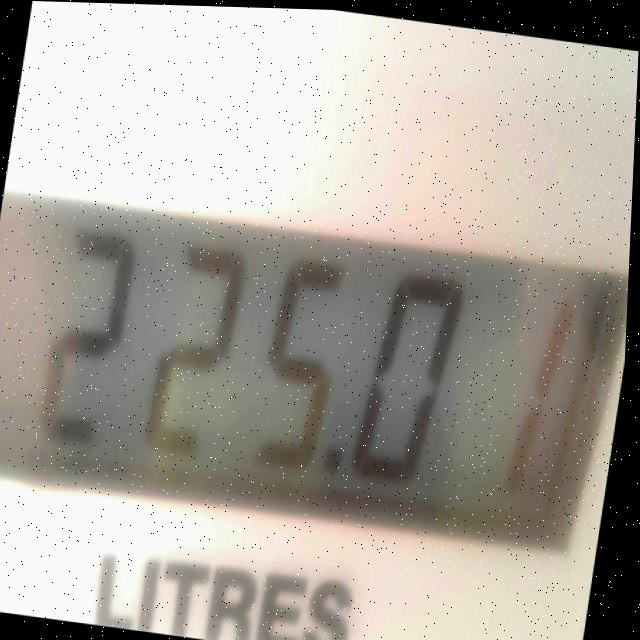.: (308, 424, 357, 497)
0: (350, 249, 475, 500)
1: (478, 270, 583, 526)
2: (127, 231, 267, 490), (10, 224, 145, 453)
5: (240, 240, 370, 487)
